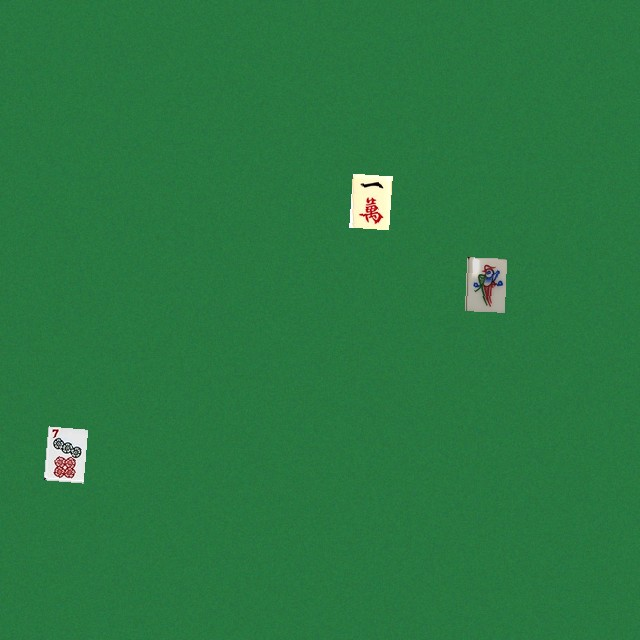tile: (464, 257, 504, 311), (349, 173, 389, 227), (43, 426, 83, 480)
